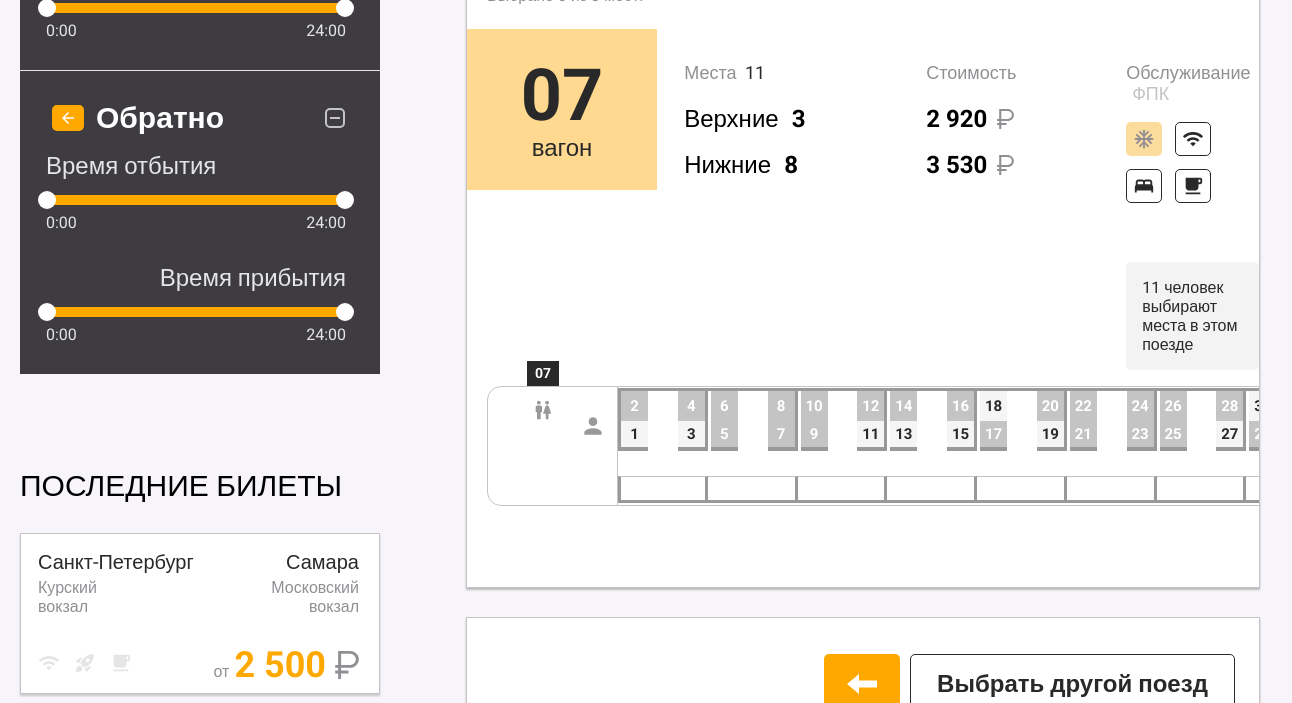
Test: выбор мест › держит количество билетов в пределах заказа
The image size is (1292, 703).
(page scrolled)
Click the button named "Место 1, нижнее, свободно" at coordinates (634, 434), box [621,421,648,447]
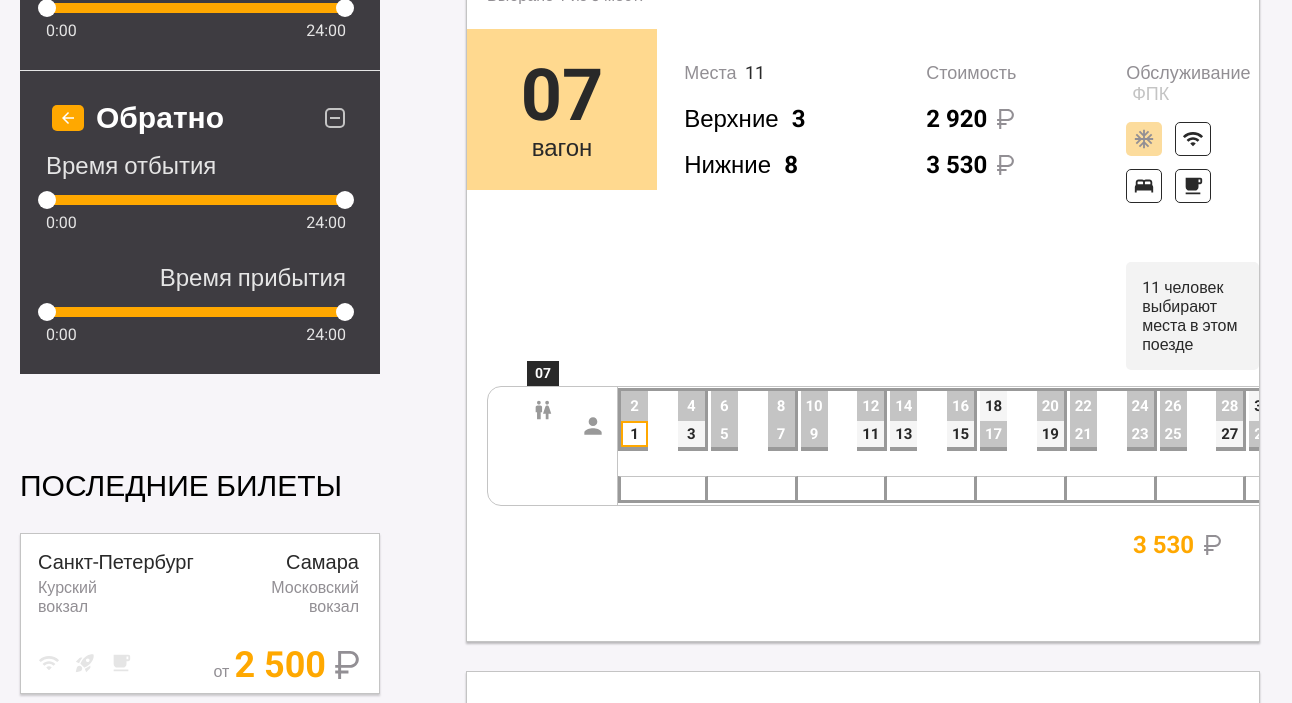
Click the button "3" at coordinates (691, 434), box [678,421,705,447]
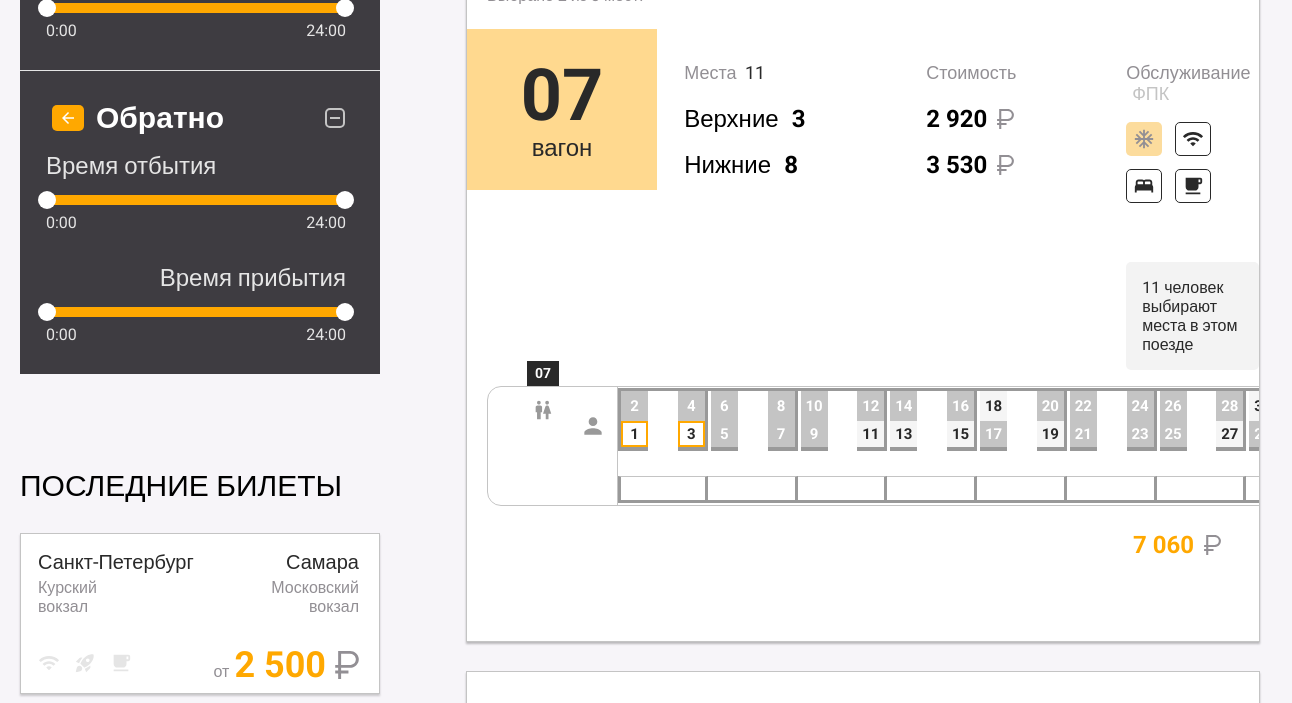
Click the button named "Место 11, нижнее, свободно" at coordinates (871, 434), box [857,421,884,447]
(page scrolled)
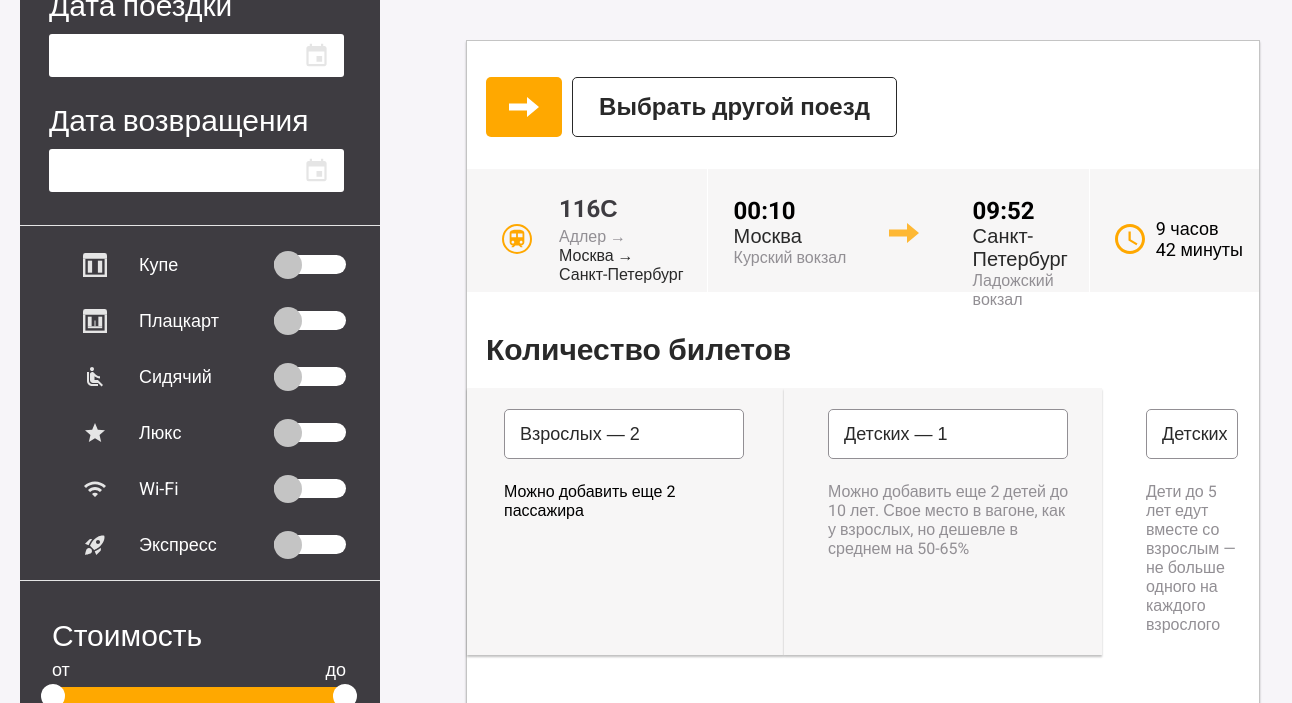
Select "Взрослых — 1" in the 1st dropdown named "Взрослых" at coordinates (624, 434), box [504,409,744,459]
(page scrolled)
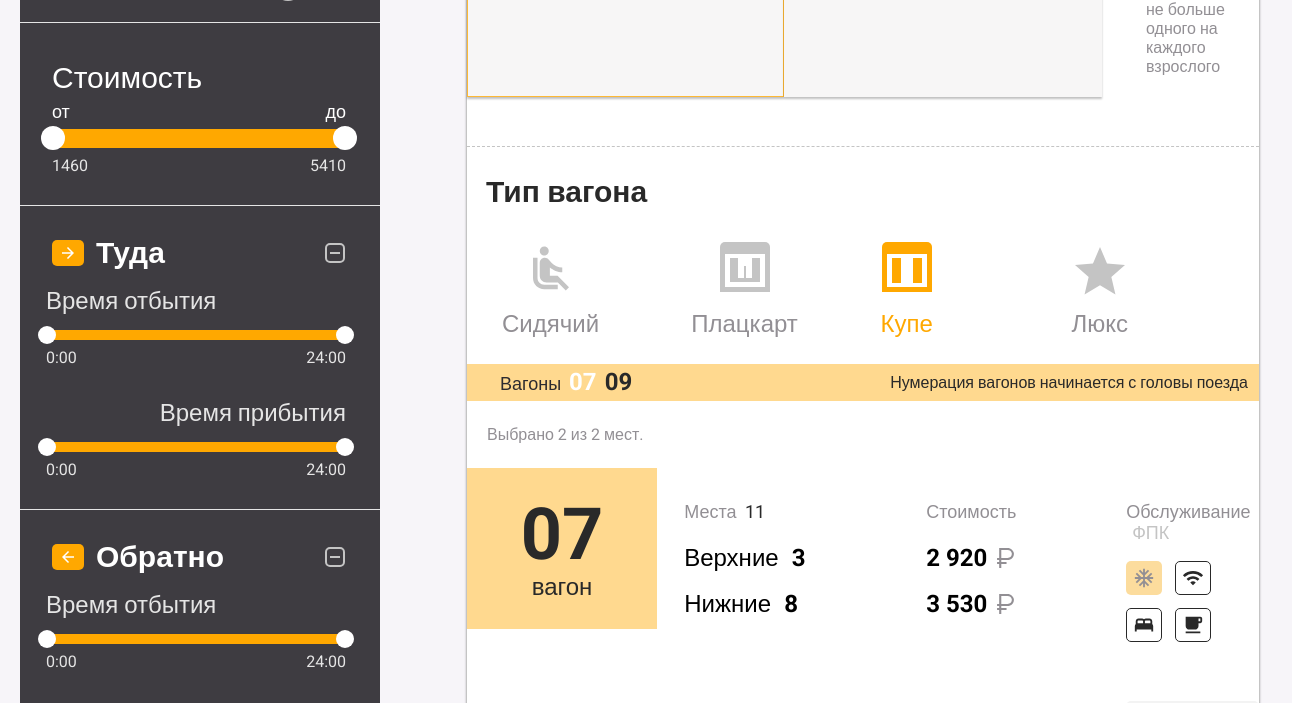
Expected: the message reads "Выбрано 2 из 2 мест.", [487,425,644,444]
